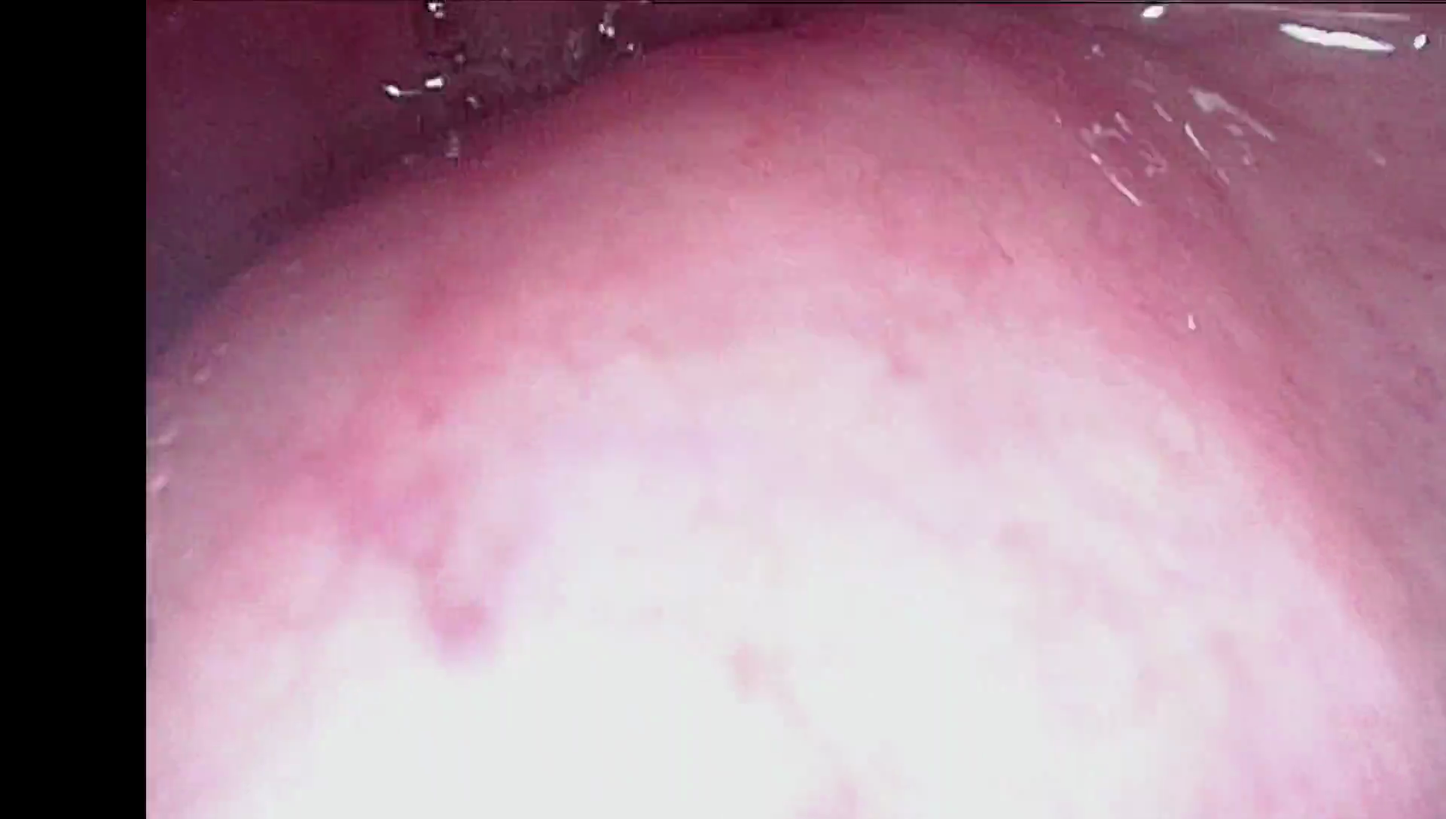close_wall: (227, 311, 1446, 819)
next: (180, 113, 355, 284)
